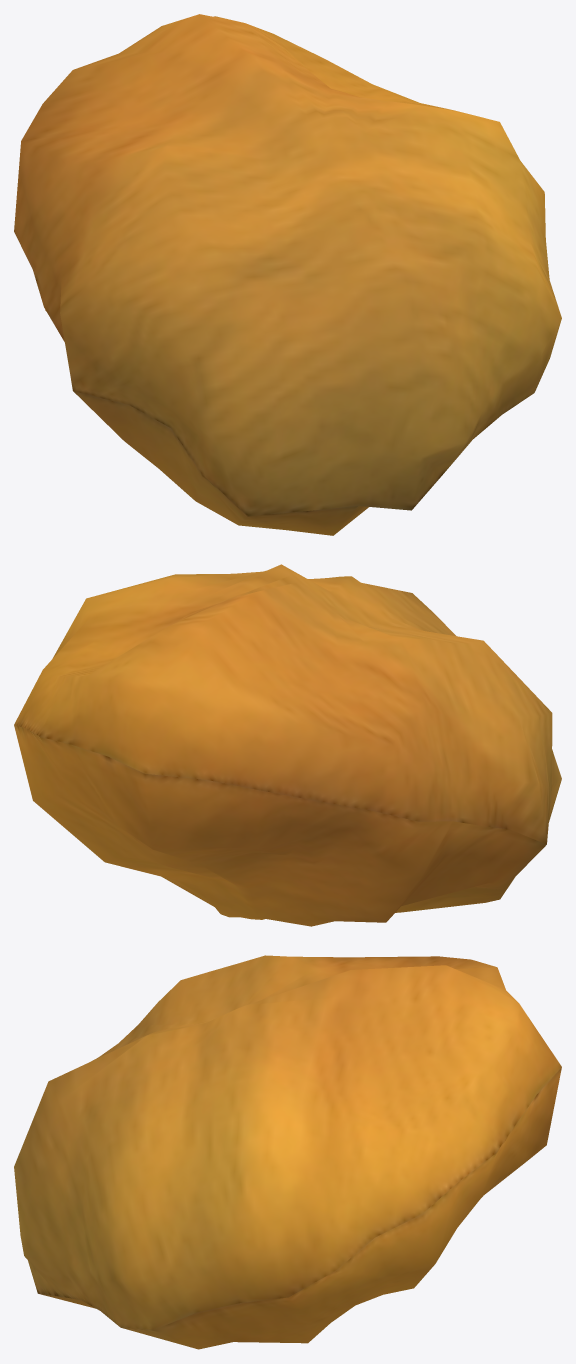
Rendered from Firebug.glb.
3 renders of one model, top to bottom at view 1: azimuth 30°, elevation 25°; view 2: azimuth 150°, elevation 25°; view 3: azimuth 270°, elevation 25°, orthographic. The views are drawn at different scales.
Parts seen in each view (by area): view 1: Sphere.017; view 2: Sphere.017; view 3: Sphere.017.
Boxes of the visible parts, box(x1,y1,x2,y2) form: Sphere.017: box(14, 14, 561, 535); Sphere.017: box(14, 564, 561, 926); Sphere.017: box(14, 955, 561, 1349).
Size of the model in its own units: 0.0615 by 0.0463 by 0.0625.
1 material, 1 textured.
